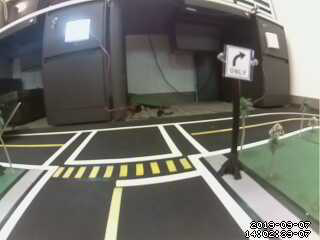Right_only_sign: (221, 44, 254, 86)
